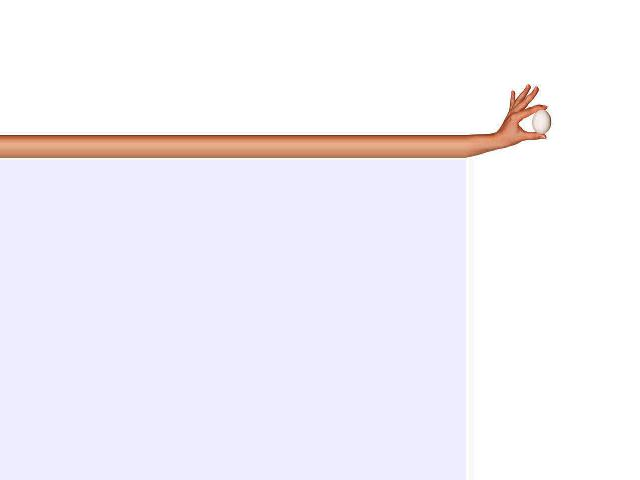egg: (532, 109, 551, 134)
